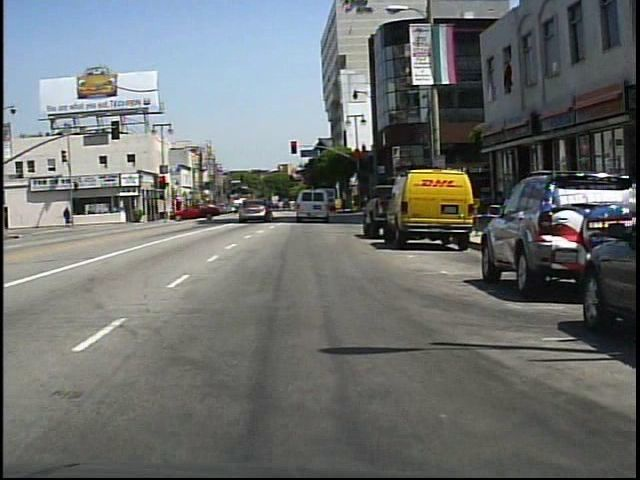person: (263, 193, 280, 223), (63, 205, 71, 225)
